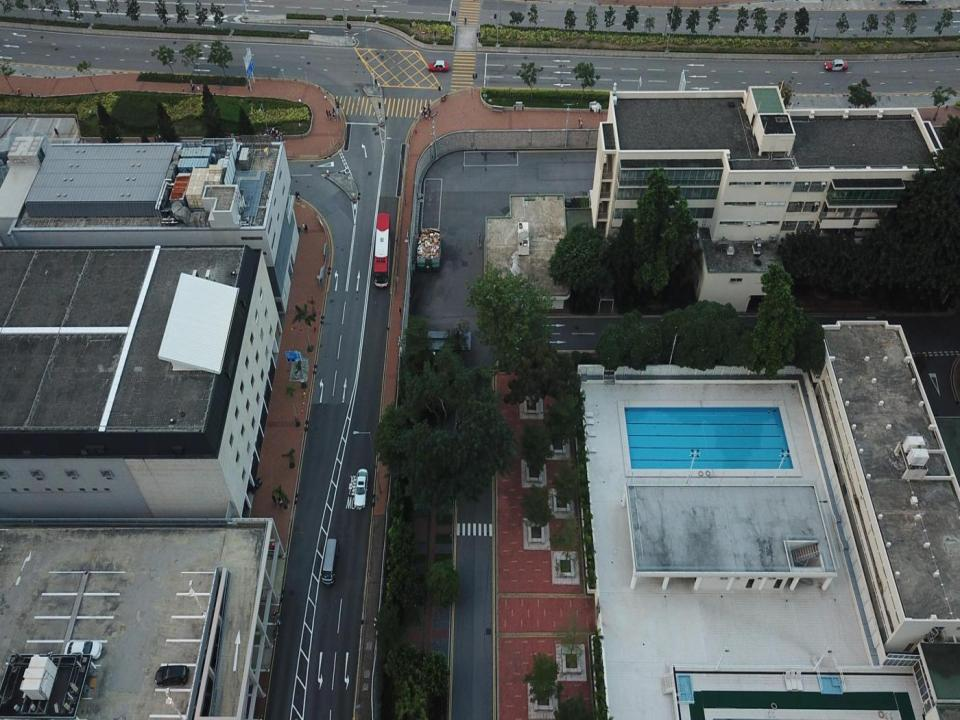bus: (373, 213, 391, 289)
car: (155, 662, 190, 688), (65, 640, 102, 660), (353, 469, 368, 508), (824, 60, 848, 72), (428, 60, 448, 72)
van: (322, 538, 338, 586)
